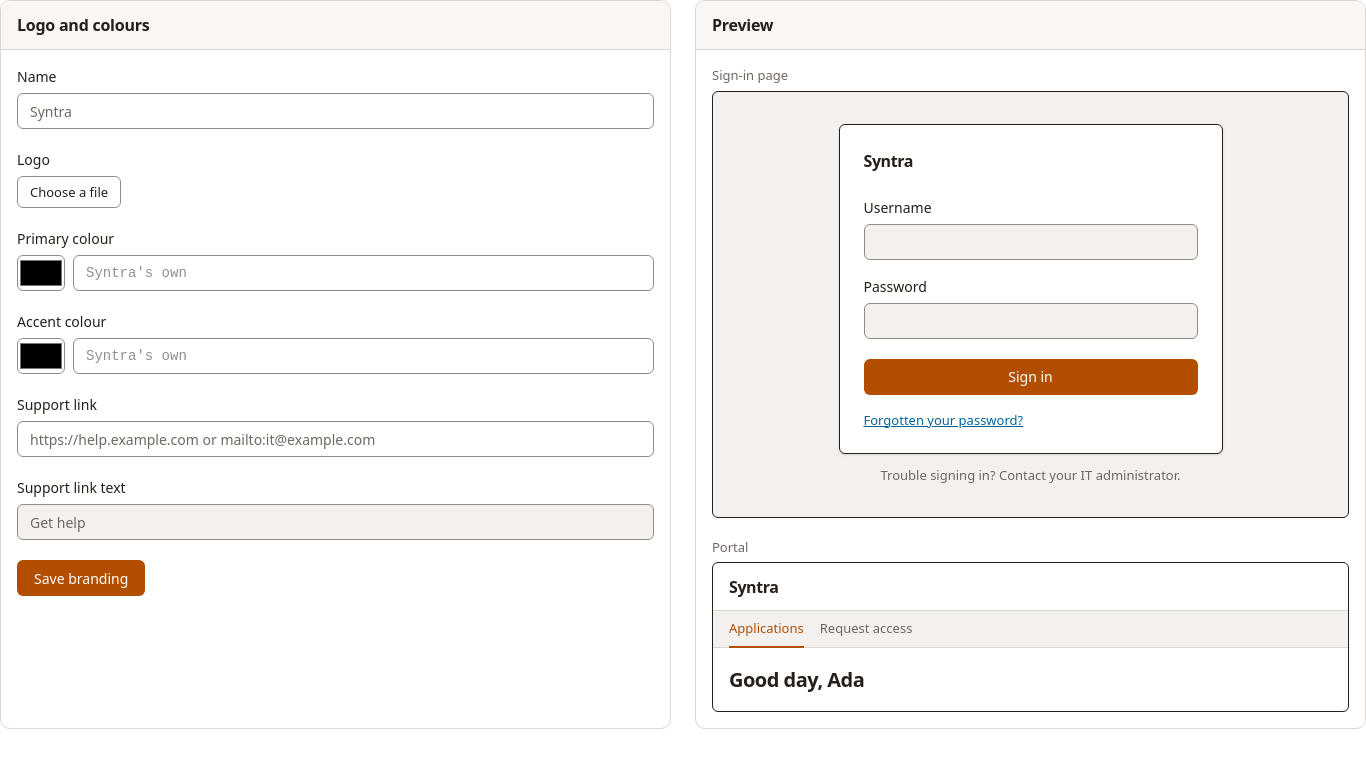
Scenario: BrandingTab › shows the name in the preview as it is typed, before it is saved
In the field labelled "Name": (336, 111) [17, 93, 654, 129], type "Acme"
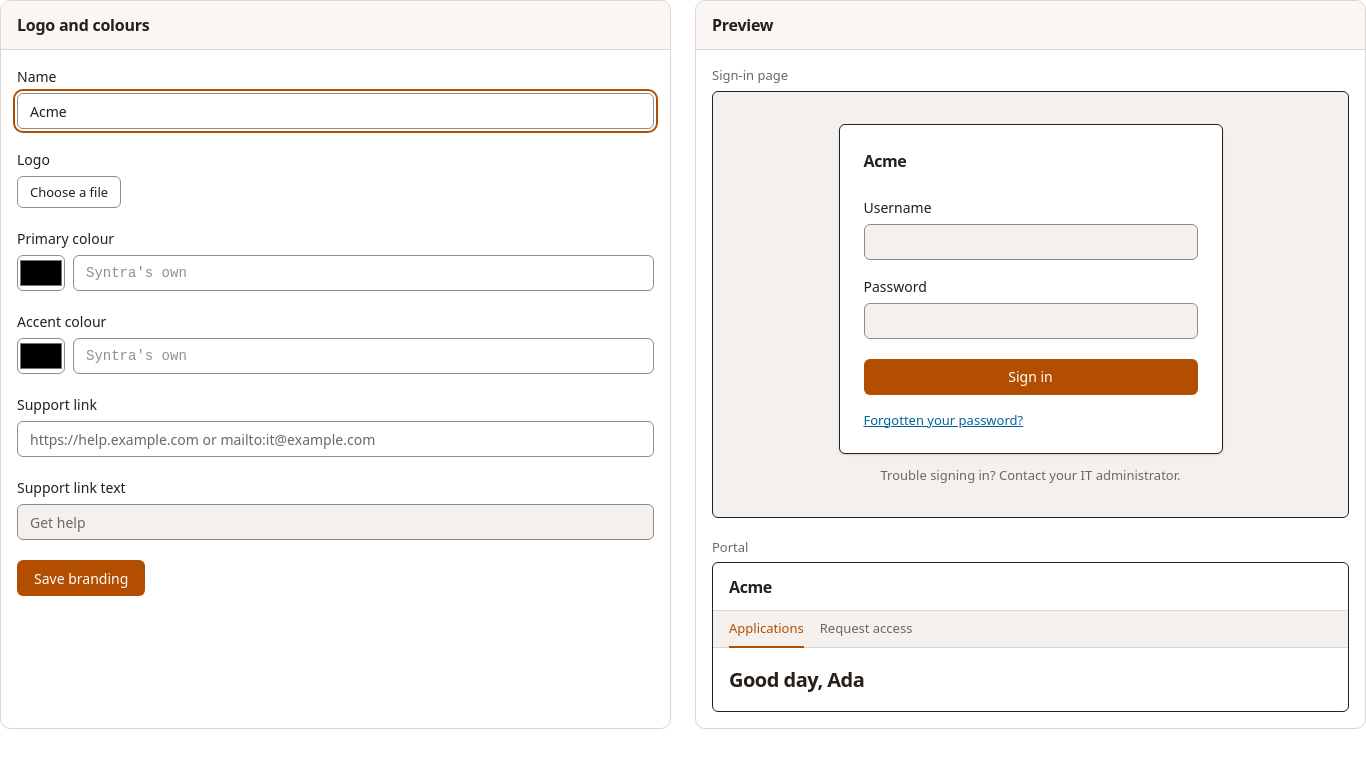
Expected: the text "Acme" below "Sign-in page" is shown, [864, 150, 906, 172]
